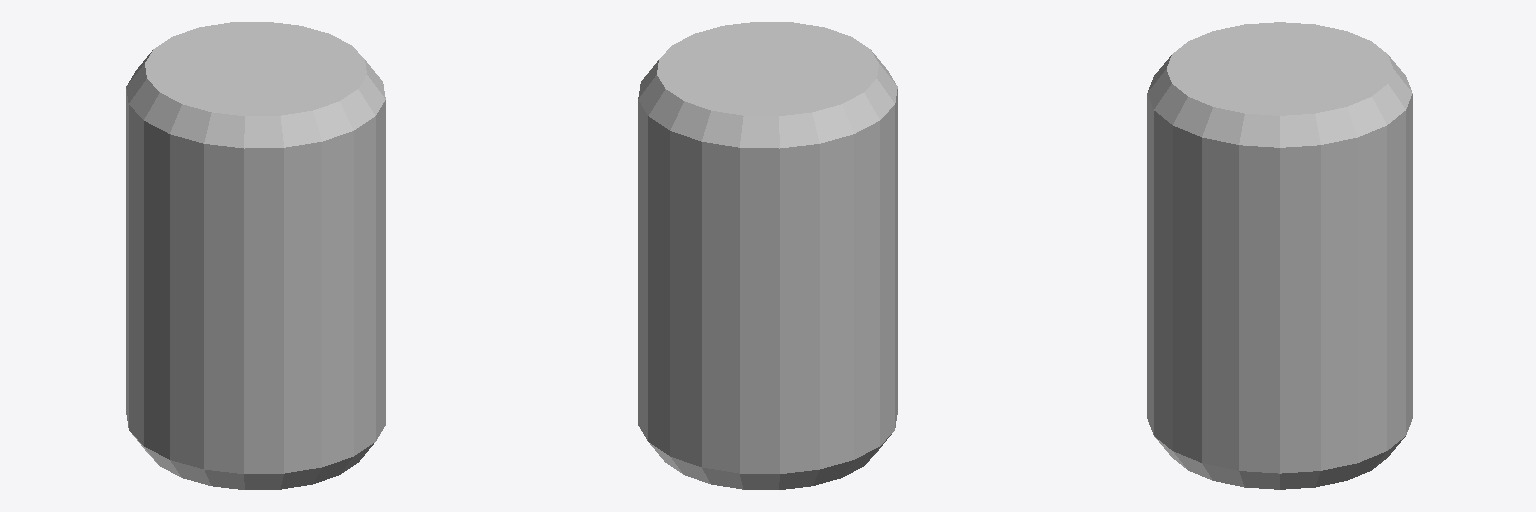
File: coke.obj
3 views of the same model, side by side, from view 1: azimuth 30°, elevation 25°; view 2: azimuth 150°, elevation 25°; view 3: azimuth 270°, elevation 25° (orthographic).
Parts seen in each view (by area): view 1: pCylinder1; view 2: pCylinder1; view 3: pCylinder1.
Boxes of the visible parts, x1,y1,x2,y2 form: pCylinder1: [126, 22, 385, 489]; pCylinder1: [638, 22, 897, 489]; pCylinder1: [1147, 22, 1412, 489].
Size of the model in its own units: 0.261 by 0.4154 by 0.2672.